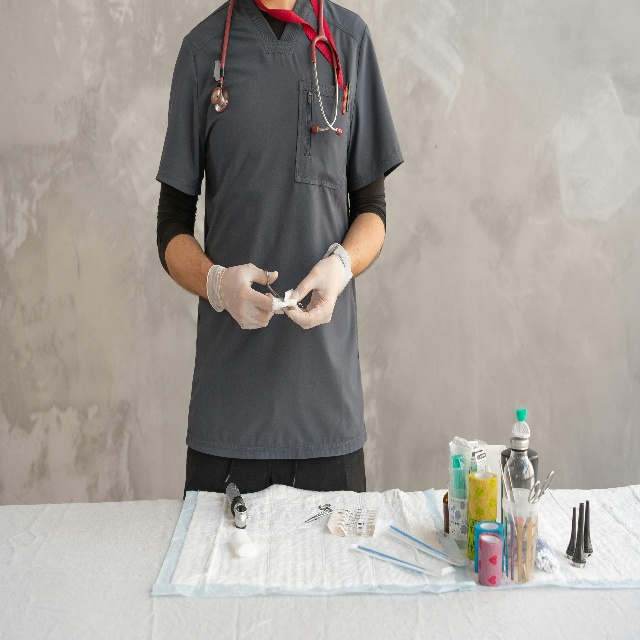Guantes: (286, 243, 353, 329), (206, 261, 284, 330)
Sin_guantes: (286, 256, 342, 330), (223, 262, 284, 329)
